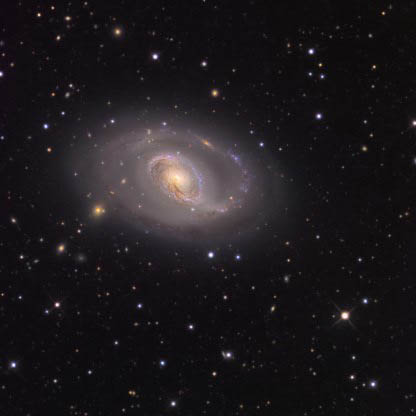Messier 96: (56, 103, 306, 256)
